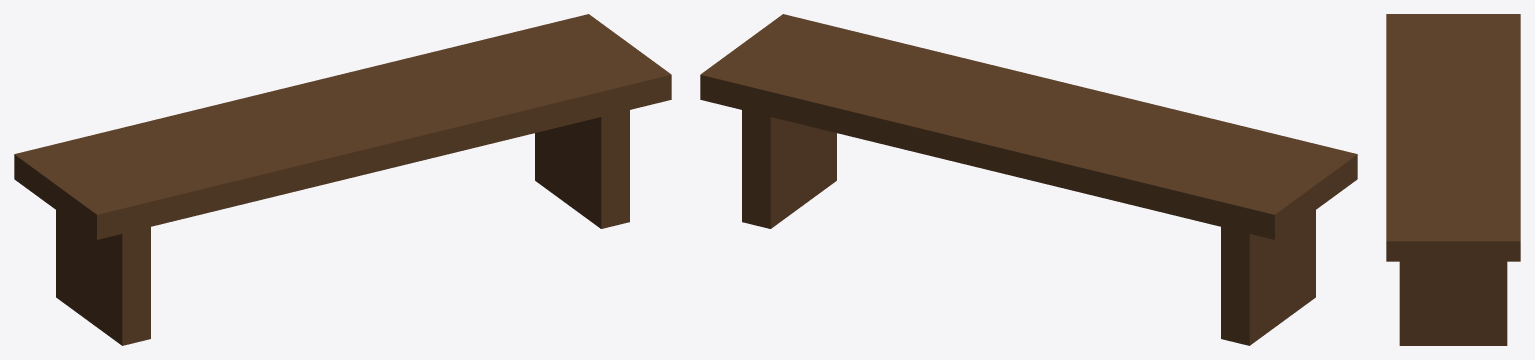
Rendered from living_bench.glb.
The picture shows the model from 3 angles, left to right: view 1: azimuth 30°, elevation 25°; view 2: azimuth 150°, elevation 25°; view 3: azimuth 270°, elevation 25°; orthographic projection. The views are drawn at different scales.
Visible parts, largest first — view 1: sw5e_int_living_bench; view 2: sw5e_int_living_bench; view 3: sw5e_int_living_bench.
Part boxes in pixels (x1=…): sw5e_int_living_bench: x1=14, y1=14, x2=671, y2=345; sw5e_int_living_bench: x1=700, y1=14, x2=1357, y2=345; sw5e_int_living_bench: x1=1386, y1=14, x2=1520, y2=345.
Bounding box in the file's own units: 1.2 × 0.29 × 0.3.
